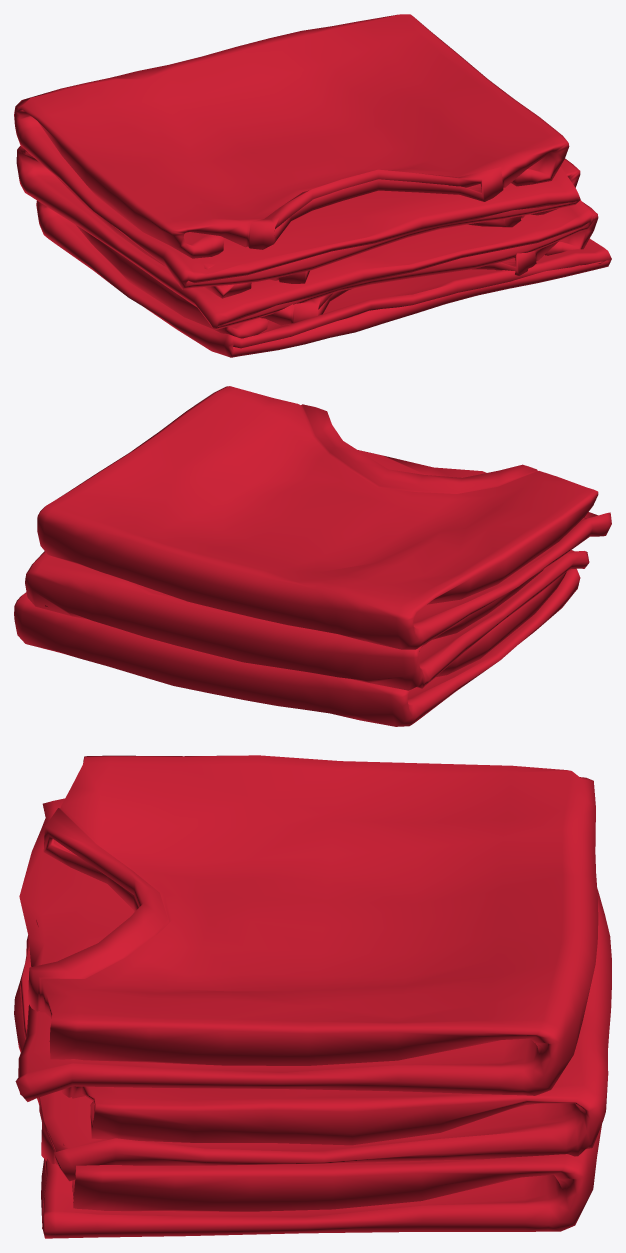
File: Folded_T_Shirt09.fbx
3 renders of one model, top to bottom at view 1: azimuth 30°, elevation 25°; view 2: azimuth 150°, elevation 25°; view 3: azimuth 270°, elevation 25°, orthographic. The views are drawn at different scales.
Visible parts, largest first — view 1: Folded_T_Shirt09; view 2: Folded_T_Shirt09; view 3: Folded_T_Shirt09.
Boxes of the visible parts, x1,y1,x2,y2 form: Folded_T_Shirt09: (14,14,611,357); Folded_T_Shirt09: (14,386,611,726); Folded_T_Shirt09: (14,755,611,1238).
Size of the model in its own units: 39.71 by 11.89 by 33.24.
